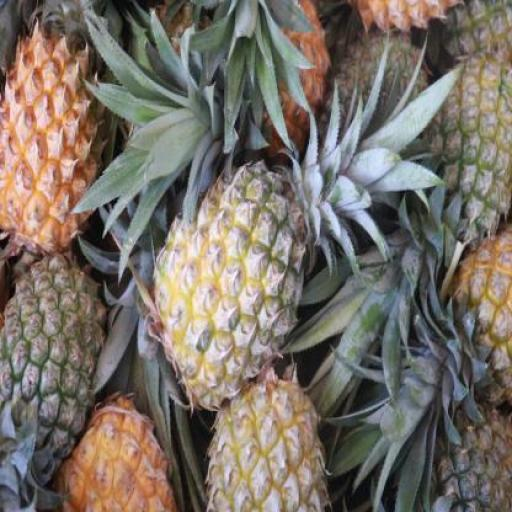------------------------------: (151, 161, 303, 409), (422, 41, 511, 236), (210, 373, 332, 511)
Pineapple - v8 v1: (0, 20, 108, 263), (50, 392, 175, 510)
